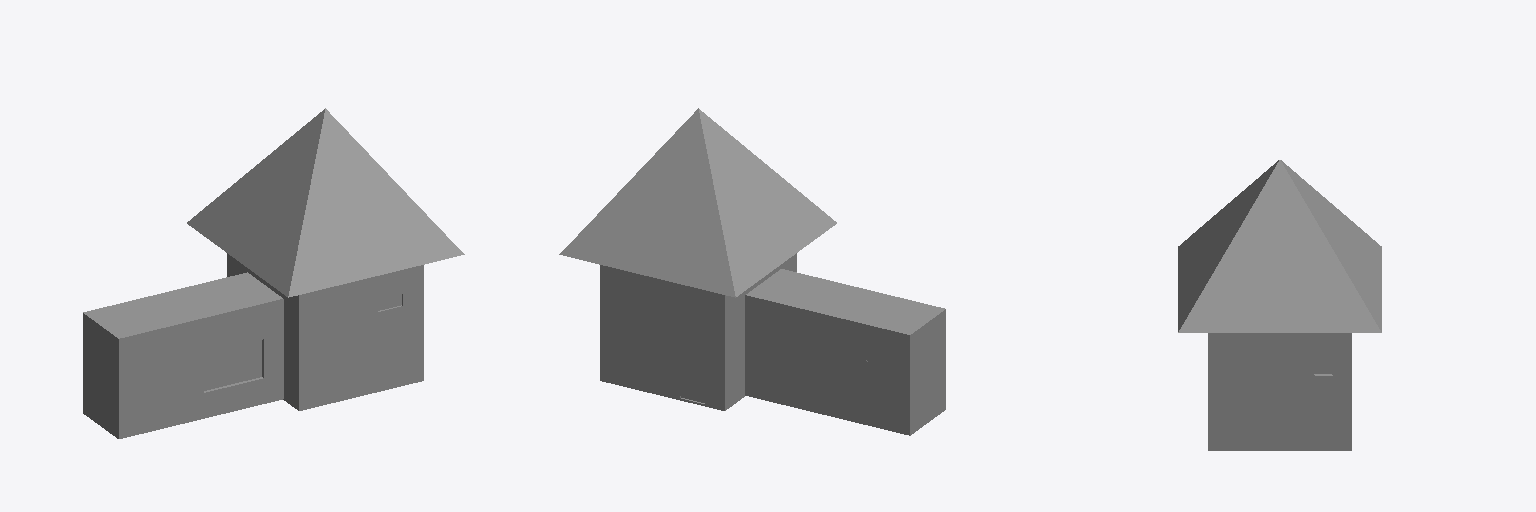
File: hausKL.obj
3 renders of one model, left to right at view 1: azimuth 30°, elevation 25°; view 2: azimuth 150°, elevation 25°; view 3: azimuth 270°, elevation 25°, orthographic.
Visible parts, largest first — view 1: Cube.001; view 2: Cube.001; view 3: Cube.001.
Part boxes in pixels (left/top/right/bottom): Cube.001: left=83, top=108, right=464, bottom=438; Cube.001: left=559, top=108, right=945, bottom=435; Cube.001: left=1178, top=160, right=1381, bottom=450.
Bounding box in the file's own units: 5.06 × 4 × 2.83.